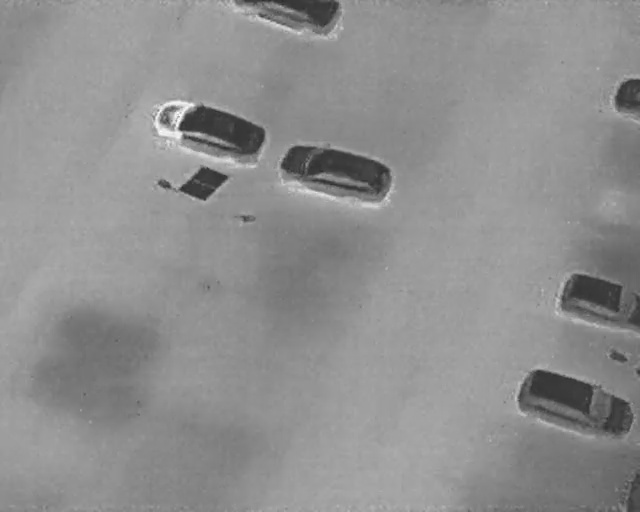Car: (141, 84, 275, 174), (511, 360, 639, 448), (271, 132, 399, 210), (554, 271, 639, 335), (231, 0, 345, 38), (611, 75, 639, 118)
